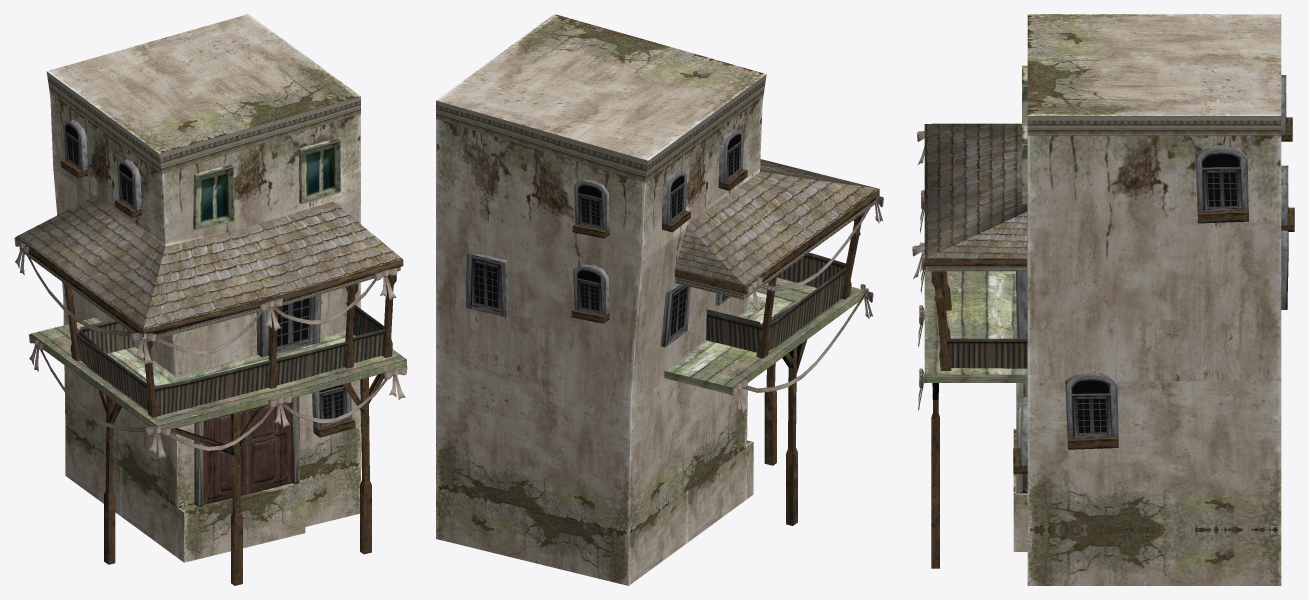
The model's file is english_corner_b.fbx.
3 views of the same model, side by side, from view 1: azimuth 30°, elevation 25°; view 2: azimuth 150°, elevation 25°; view 3: azimuth 270°, elevation 25° (orthographic). The views are drawn at different scales.
Parts seen in each view (by area): view 1: building_shell, building_shell3, window_b, door_right, raling_normals4, door_left, window_a3, pillar, window_09, window_01, pillar1, raling_normals3 (+19 smaller); view 2: building_shell, window_b, window_a4, pillar7, raling5, raling6, window_a2, raling_normals5, raling_normals4, pillar, pillar5, pillar4 (+2 smaller); view 3: building_shell, window_b, raling_normals2, pillar1, building_shell3, pillar6, raling2, window_a3, door_frame, window_a4.
Boxes of the visible parts, x1,y1,x2,y2 form: building_shell: [16, 14, 406, 557]; building_shell3: [178, 480, 305, 562]; window_b: [60, 119, 355, 437]; door_right: [247, 398, 292, 493]; raling_normals4: [154, 360, 270, 415]; door_left: [203, 410, 247, 504]; window_a3: [256, 294, 321, 357]; pillar: [171, 405, 266, 585]; window_09: [193, 164, 234, 230]; window_01: [298, 138, 341, 204]; pillar1: [343, 373, 384, 554]; raling_normals3: [276, 341, 347, 385]; building_shell: [436, 14, 879, 585]; window_b: [571, 129, 747, 323]; window_a4: [466, 251, 508, 317]; pillar7: [782, 340, 806, 525]; raling5: [768, 268, 846, 350]; raling6: [706, 311, 762, 352]; window_a2: [661, 283, 690, 347]; raling_normals5: [760, 267, 846, 345]; raling_normals4: [777, 252, 845, 287]; pillar: [764, 363, 776, 465]; pillar5: [756, 275, 778, 358]; pillar4: [841, 211, 865, 299]; building_shell: [924, 14, 1281, 585]; window_b: [1013, 75, 1294, 473]; raling_normals2: [946, 338, 1027, 368]; pillar1: [931, 383, 939, 568]; building_shell3: [1013, 429, 1027, 551]; pillar6: [931, 271, 951, 370]; raling2: [947, 338, 1027, 368]; window_a3: [1016, 228, 1027, 338]; door_frame: [1016, 383, 1027, 493]; window_a4: [1281, 230, 1288, 309].
Size of the model in its own units: 2916 by 4101 by 3025.
Materials: 3 (3 with a texture image).
